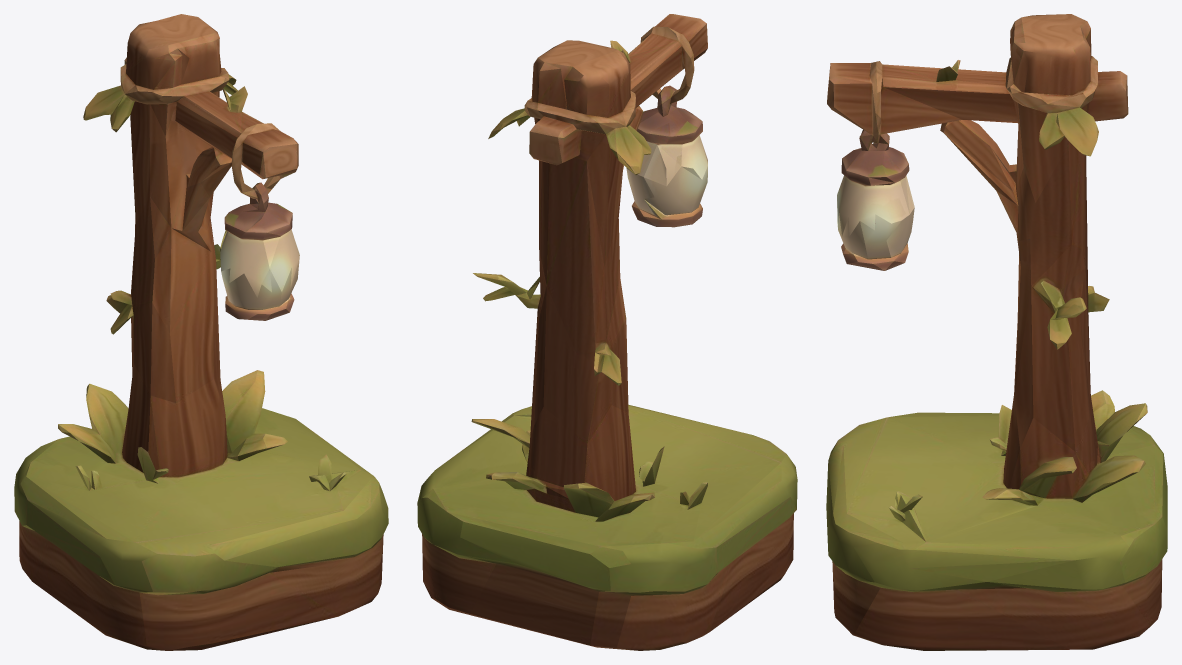
Rendered from p_lantern.fbx.
3 views of the same model, side by side, from view 1: azimuth 30°, elevation 25°; view 2: azimuth 150°, elevation 25°; view 3: azimuth 270°, elevation 25° (orthographic). The views are drawn at different scales.
Visible parts, largest first — view 1: Mesh_0; view 2: Mesh_0; view 3: Mesh_0.
Boxes of the visible parts, x1,y1,x2,y2 form: Mesh_0: (14, 14, 388, 650); Mesh_0: (417, 14, 797, 650); Mesh_0: (826, 14, 1167, 650).
Bounding box in the file's own units: 1.05 × 1.9 × 1.05.
Materials: 1 (1 with a texture image).
